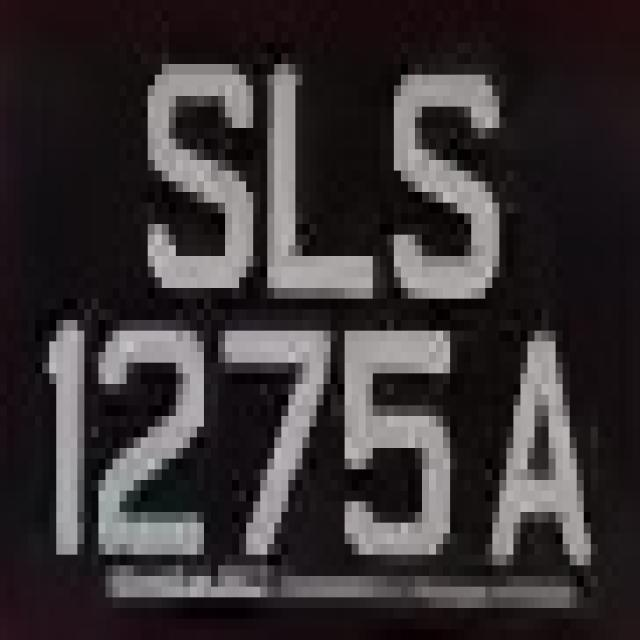1: (21, 299, 92, 597)
2: (84, 299, 232, 576)
5: (338, 299, 464, 597)
7: (204, 288, 331, 576)
A: (471, 320, 598, 608)
L: (260, 43, 387, 320)
S: (134, 21, 274, 320), (394, 64, 513, 331)
